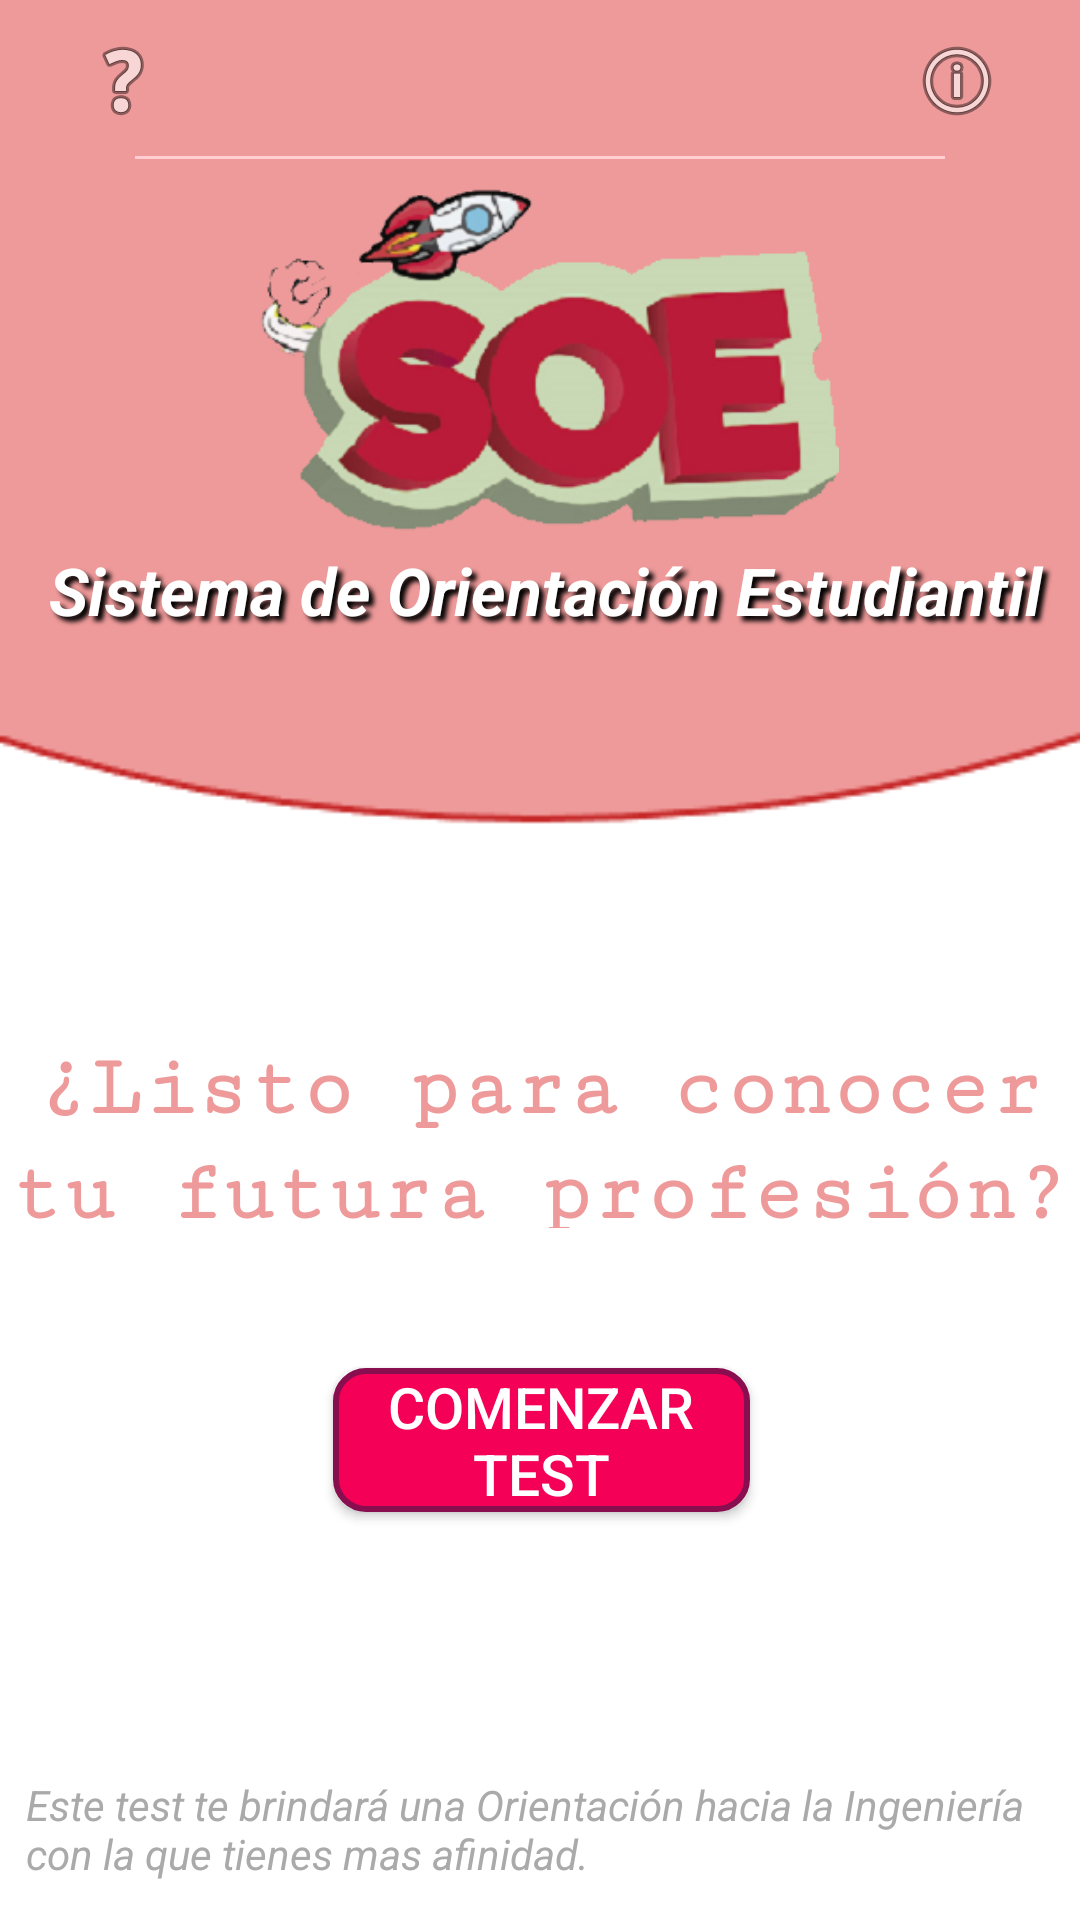

Screen size 1080 x 1920. Icon name, then its center in pixels as (x,y):
help: (123,81)
info details: (957,81)
